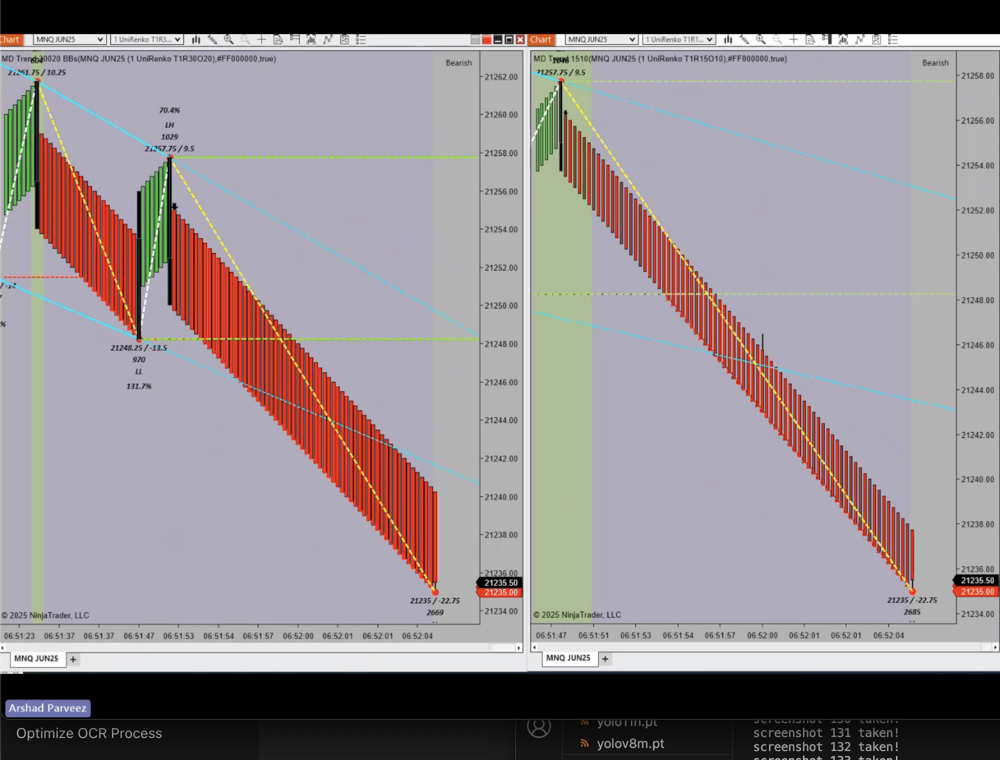LH: (157, 116, 186, 136)
LL: (126, 363, 155, 382)
